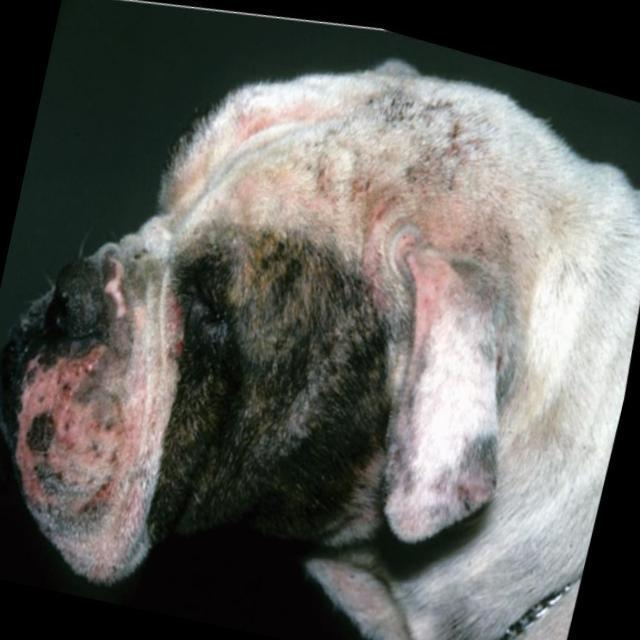mange: (206, 68, 549, 261), (14, 328, 184, 591)
